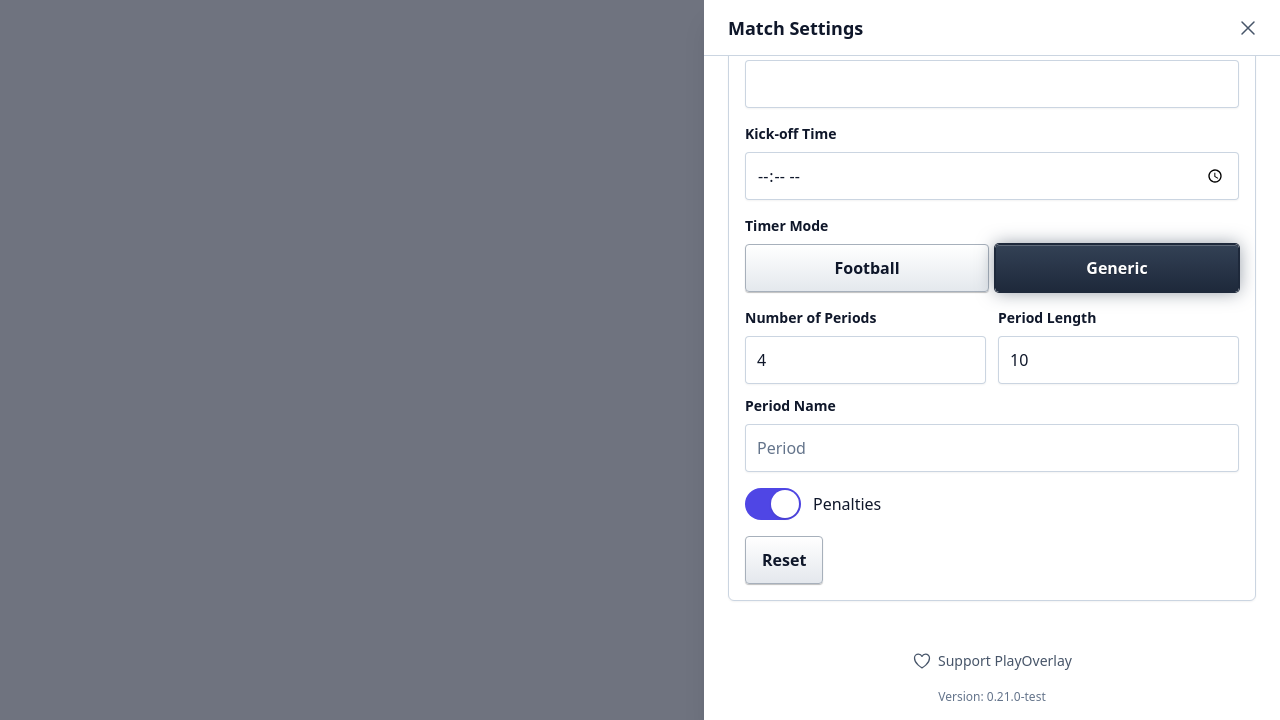
MatchSettingsMenu numeric timer fields › shows the in-effect default after clearing a field that was already on its default
This screenshot has width=1280, height=720.
(page scrolled)
Clear the number field labelled "Number of Periods": (866, 360) left=745, top=336, right=986, bottom=384
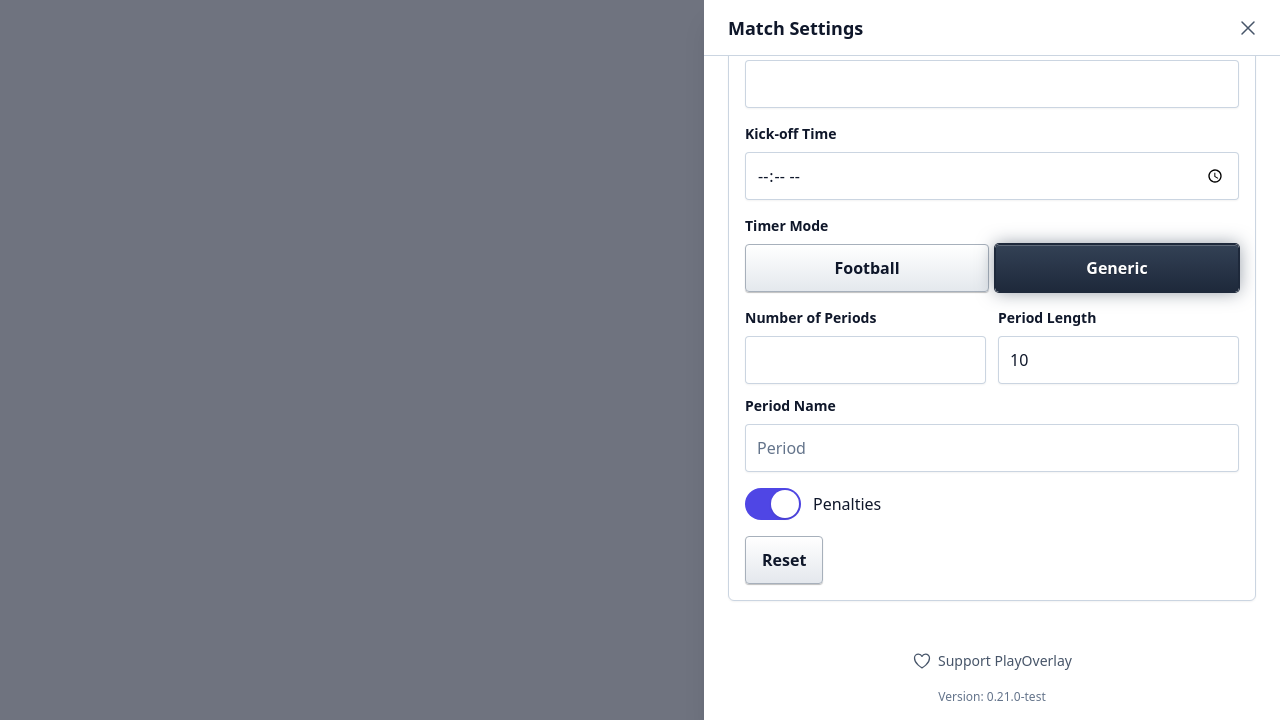
Leave the number field labelled "Number of Periods", box left=745, top=336, right=986, bottom=384
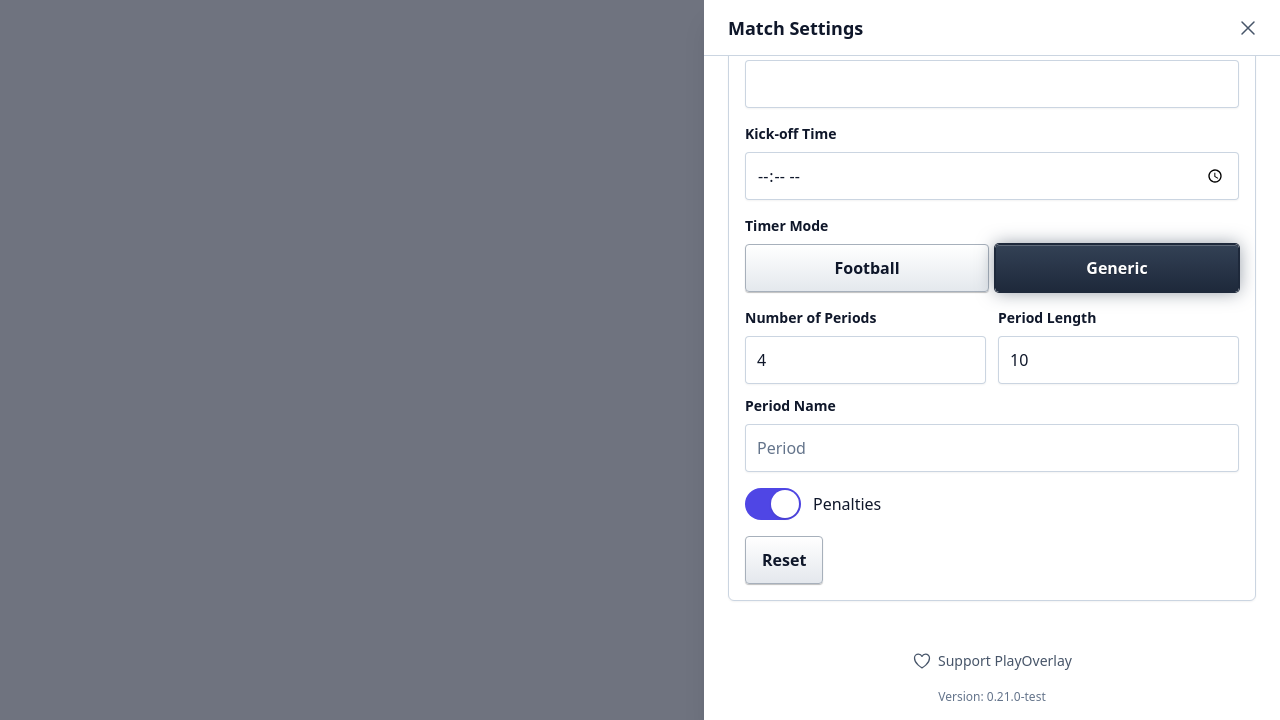
Check: the number field labelled "Number of Periods" holds "4", box left=745, top=336, right=986, bottom=384
